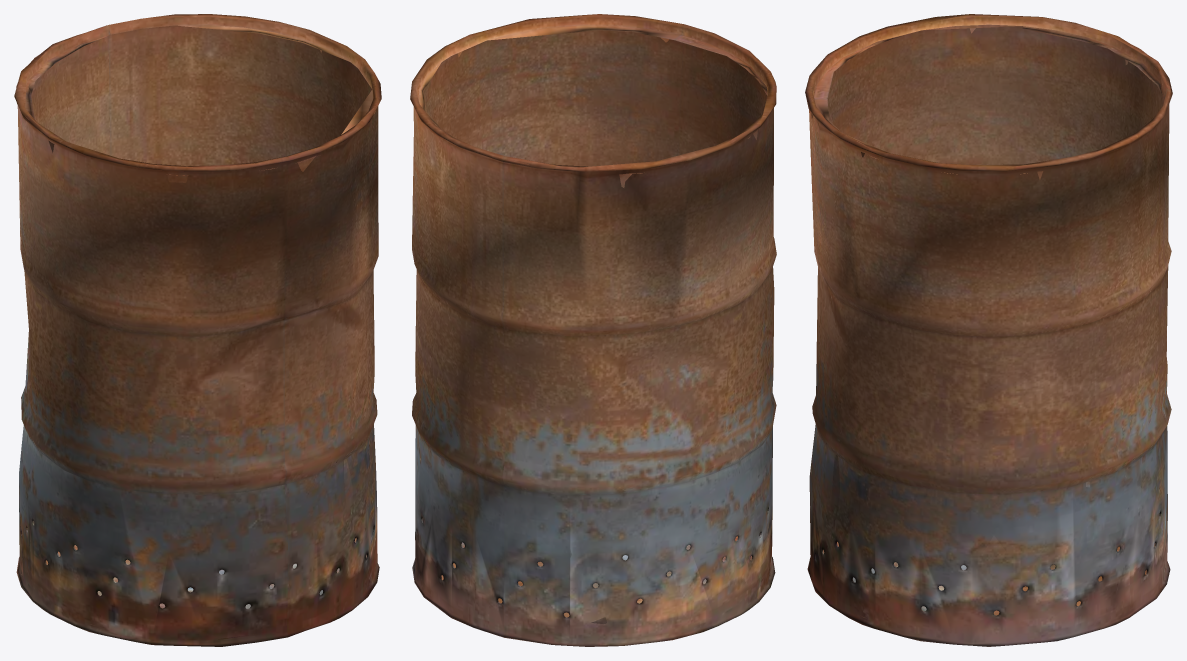
File: fire_barrel.glb
3 renders of one model, left to right at view 1: azimuth 30°, elevation 25°; view 2: azimuth 150°, elevation 25°; view 3: azimuth 270°, elevation 25°, orthographic.
Parts seen in each view (by area): view 1: barrel_stove; view 2: barrel_stove; view 3: barrel_stove.
Part boxes in pixels (box(x1,y1,x2,y2)): barrel_stove: box(14, 14, 381, 646); barrel_stove: box(410, 14, 776, 646); barrel_stove: box(805, 14, 1172, 646).
Bounding box in the file's own units: 0.5886 × 0.8556 × 0.5925.
1 material, 1 textured.
